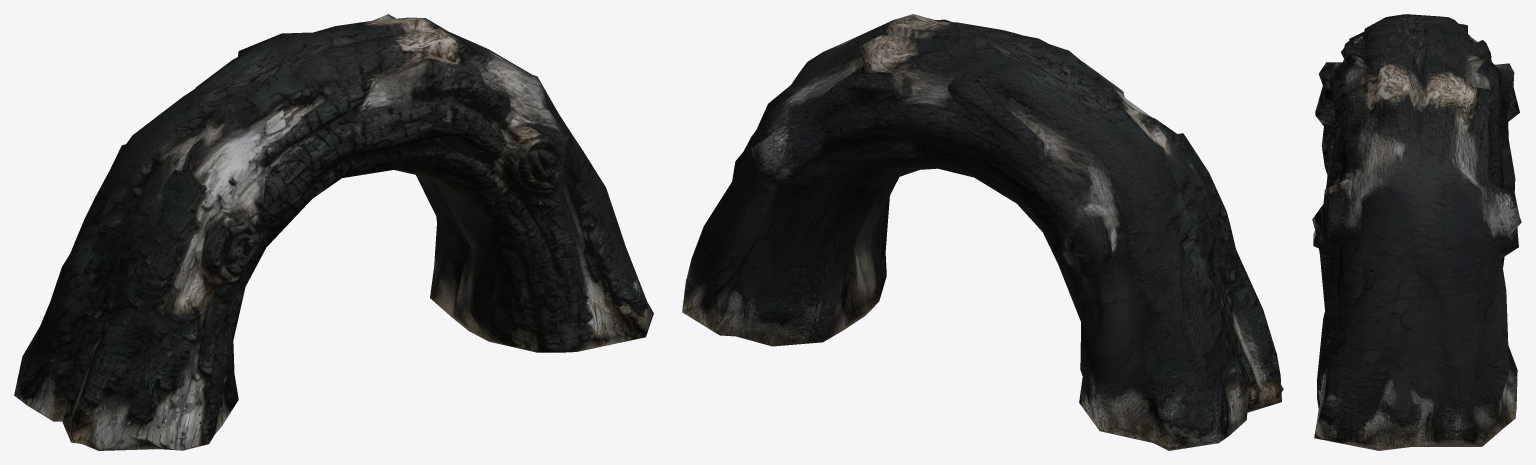
File: fallen-bough-arch.glb
3 renders of one model, left to right at view 1: azimuth 30°, elevation 25°; view 2: azimuth 150°, elevation 25°; view 3: azimuth 270°, elevation 25°, orthographic. The views are drawn at different scales.
Visible parts, largest first — view 1: tripo_node_60626929-c61b-4643-9c85-2e51dd931adf; view 2: tripo_node_60626929-c61b-4643-9c85-2e51dd931adf; view 3: tripo_node_60626929-c61b-4643-9c85-2e51dd931adf.
Boxes of the visible parts, left/top/right/bottom form: tripo_node_60626929-c61b-4643-9c85-2e51dd931adf: left=14, top=14, right=653, bottom=450; tripo_node_60626929-c61b-4643-9c85-2e51dd931adf: left=682, top=14, right=1283, bottom=450; tripo_node_60626929-c61b-4643-9c85-2e51dd931adf: left=1312, top=14, right=1521, bottom=450.
Size of the model in its own units: 1 by 0.5322 by 0.3547.
1 material, 1 textured.
